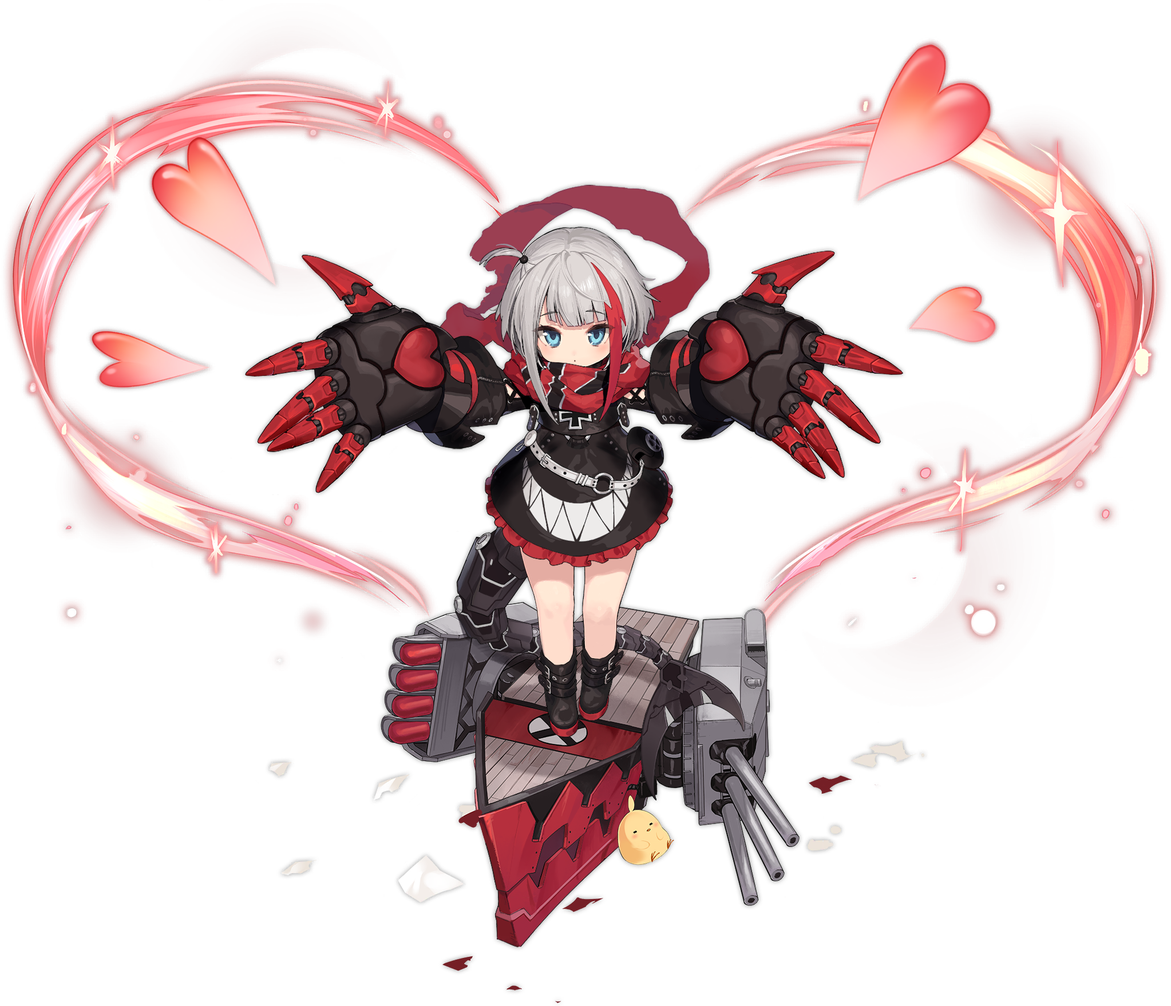person: (391, 191, 770, 796)
